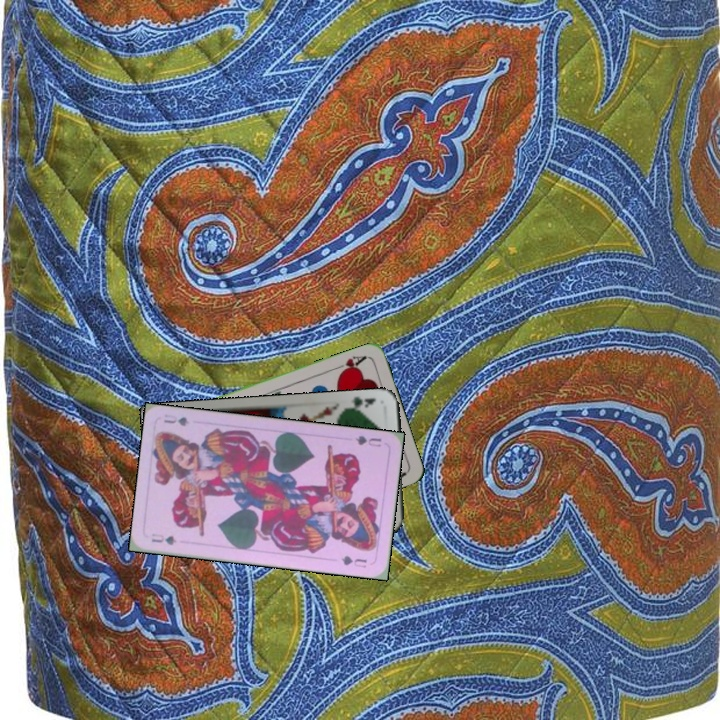GK: (344, 393, 378, 413)
GU: (351, 431, 384, 449), (147, 529, 179, 547)
HA: (330, 351, 369, 377)
